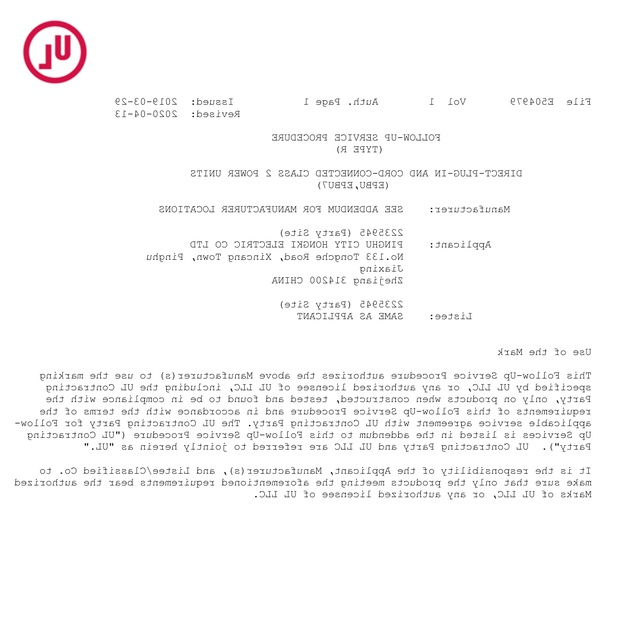ul: (23, 21, 88, 84)
